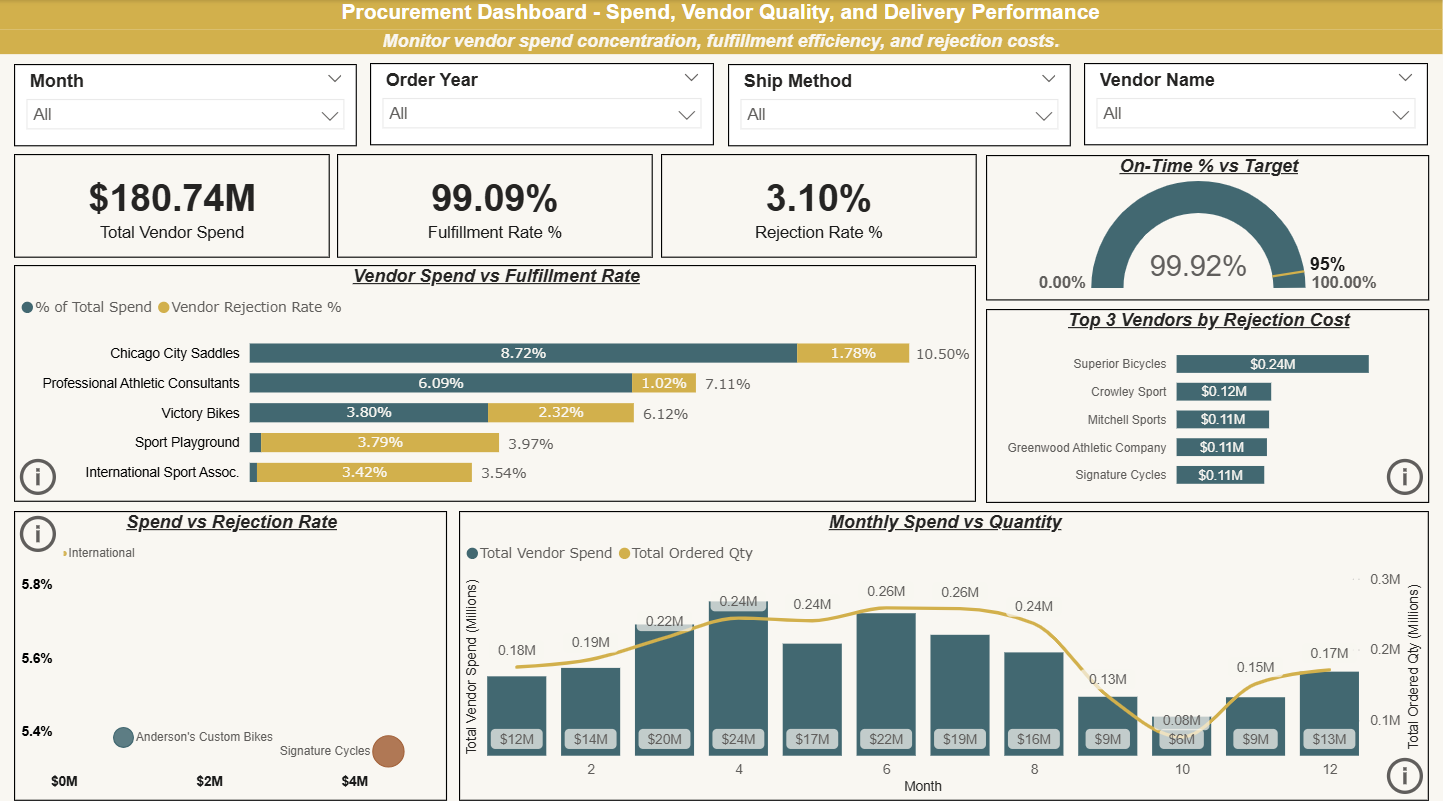

The dashboard page shown, as its layout file describes it:
{"tool":"powerbi","page":{"name":"Procurement","canvas":[1280,720],"ordinal":1},"visuals":[{"type":"card","fields":{"Values":["ProcurementMeasures.Total vendor Spend"]},"box":[13.3,136.7,280,91.7],"z":0},{"type":"card","fields":{"Values":["ProcurementMeasures.Fulfillment Rate %"]},"box":[300,136.7,280,91.7],"z":1000},{"type":"card","fields":{"Values":["ProcurementMeasures.Rejection Rate %"]},"box":[586.7,136.7,280,91.7],"z":2000},{"type":"barChart","title":"Vendor Spend vs Fulfillment Rate","fields":{"Category":["procurement.VendorName"],"Y":["ProcurementMeasures.% of Total Spend","ProcurementMeasures.Vendor Rejection Rate %"]},"box":[13.3,235,853.3,210],"z":3000},{"type":"gauge","title":"On-Time % vs Target","fields":{"Y":["ProcurementMeasures.OnTime_Pct"],"TargetValue":["ProcurementMeasures.OnTime_Target"]},"box":[875,137,393,129],"z":4000},{"type":"barChart","title":"Top 3 Vendors by Rejection Cost","fields":{"Category":["procurement.VendorName"],"Y":["ProcurementMeasures.Vendor Rejection Cost"]},"box":[874.9,273.8,393,171.7],"z":5000},{"type":"scatterChart","title":"Spend vs Rejection Rate","fields":{"Y":["ProcurementMeasures.Vendor Rejection Rate %"],"Size":["ProcurementMeasures.Vendor Rejection Cost"],"Series":["procurement.VendorName"],"X":["ProcurementMeasures.Total Vendor Spend"]},"box":[13,453,384,257],"z":6000},{"type":"slicer","fields":{"Values":["Date.MonthName"]},"box":[13.1,56.4,304.4,72.6],"z":7000},{"type":"slicer","fields":{"Values":["procurement.VendorName"]},"box":[962.4,55.9,305,72.8],"z":8000},{"type":"slicer","fields":{"Values":["procurement.ShipMethod"]},"box":[646.1,56.4,304.4,72.6],"z":9000},{"type":"shape","title":"Procurement Dashboard - Spend, Vendor Quality, and Delivery Performance","box":[0,0,1280,48.3],"z":10000},{"type":"slicer","fields":{"Values":["procurement.OrderYear"]},"box":[329.3,55.9,305,72.8],"z":11000},{"type":"lineStackedColumnComboChart","title":"Monthly Spend vs Quantity","fields":{"Category":["procurement.OrderMonth"],"Y2":["ProcurementMeasures.Total Ordered Quantity"],"Y":["ProcurementMeasures.Total Vendor Spend"]},"box":[408,453,860,257],"z":12000},{"type":"actionButton","box":[13.1,402.1,42.4,42.4],"z":13000},{"type":"actionButton","box":[1225.4,402.1,42.4,42.4],"z":14000},{"type":"actionButton","box":[13.1,452.6,42.4,42.4],"z":15000},{"type":"actionButton","box":[1225.4,666.8,42.4,42.4],"z":16000}]}

Visuals, with their boxes in screenshot pixels (x1, y1, x2, y2), scaled from the page's 1280x720 canvas onto the 1443x801 screenshot:
card - ProcurementMeasures.Total vendor Spend: (15,152,331,254)
card - ProcurementMeasures.Fulfillment Rate %: (338,152,654,254)
card - ProcurementMeasures.Rejection Rate %: (661,152,977,254)
"Vendor Spend vs Fulfillment Rate" barChart: (15,261,977,495)
"On-Time % vs Target" gauge: (986,152,1429,296)
"Top 3 Vendors by Rejection Cost" barChart: (986,305,1429,496)
"Spend vs Rejection Rate" scatterChart: (15,504,448,790)
slicer - Date.MonthName: (15,63,358,144)
slicer - procurement.VendorName: (1085,62,1429,143)
slicer - procurement.ShipMethod: (728,63,1072,144)
"Procurement Dashboard - Spend, Vendor Quality, and Delivery Performance" shape: (0,0,1442,54)
slicer - procurement.OrderYear: (371,62,715,143)
"Monthly Spend vs Quantity" lineStackedColumnComboChart: (460,504,1429,790)
actionButton: (15,447,63,495)
actionButton: (1381,447,1429,495)
actionButton: (15,504,63,551)
actionButton: (1381,742,1429,789)
